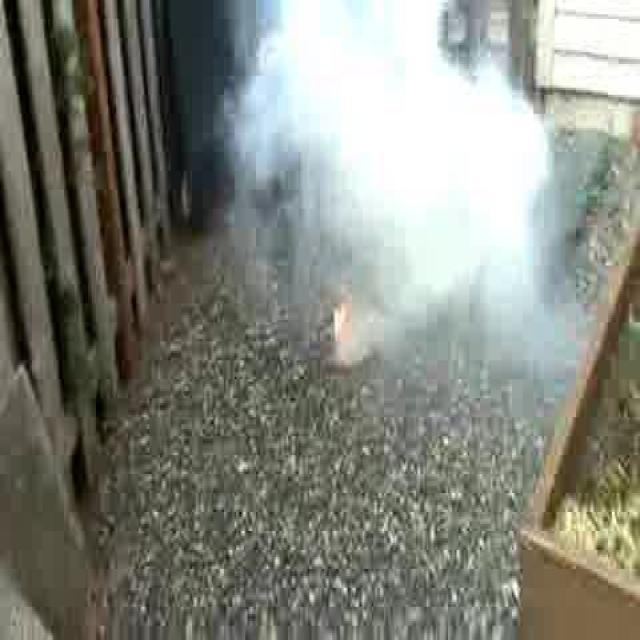Smoke: (188, 0, 587, 419)
